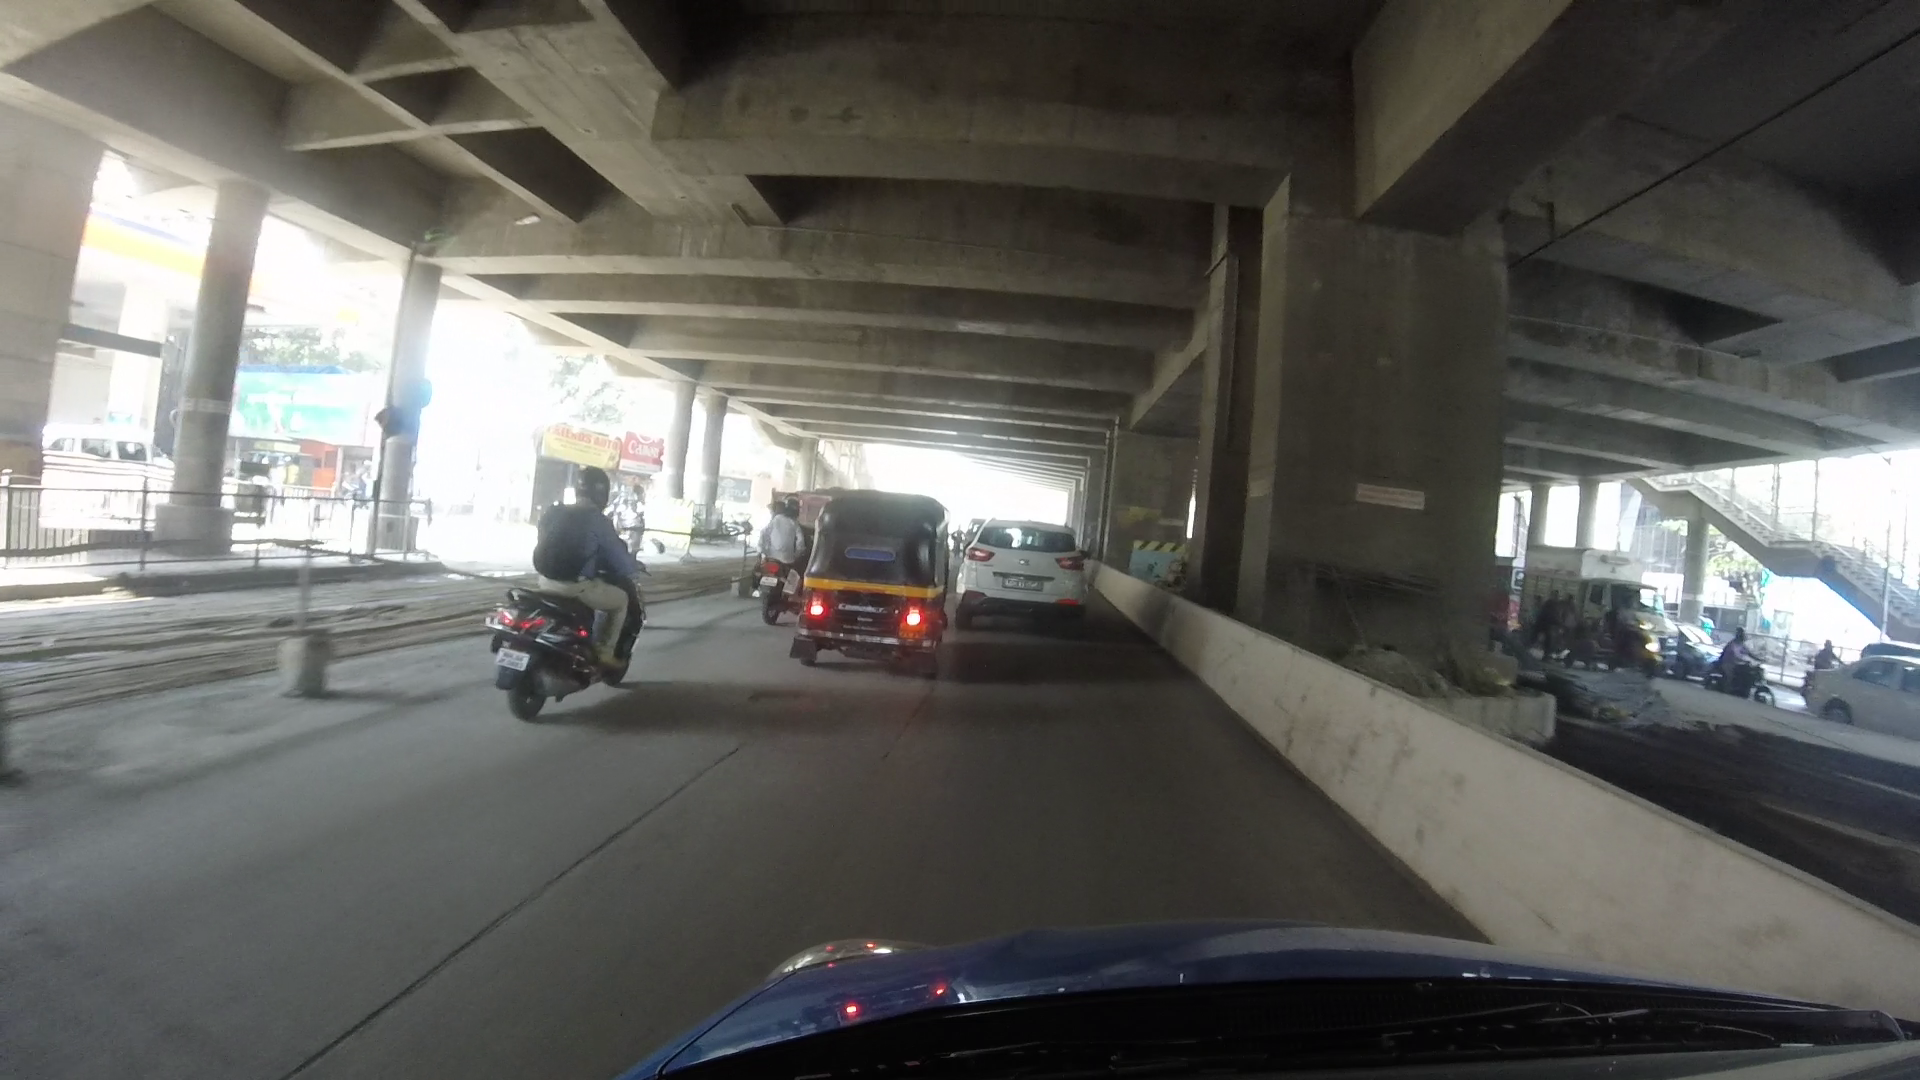bike/scooter: (473, 467, 679, 708), (740, 475, 807, 636)
car: (963, 495, 1092, 628)
rickshaw: (795, 463, 953, 704)
